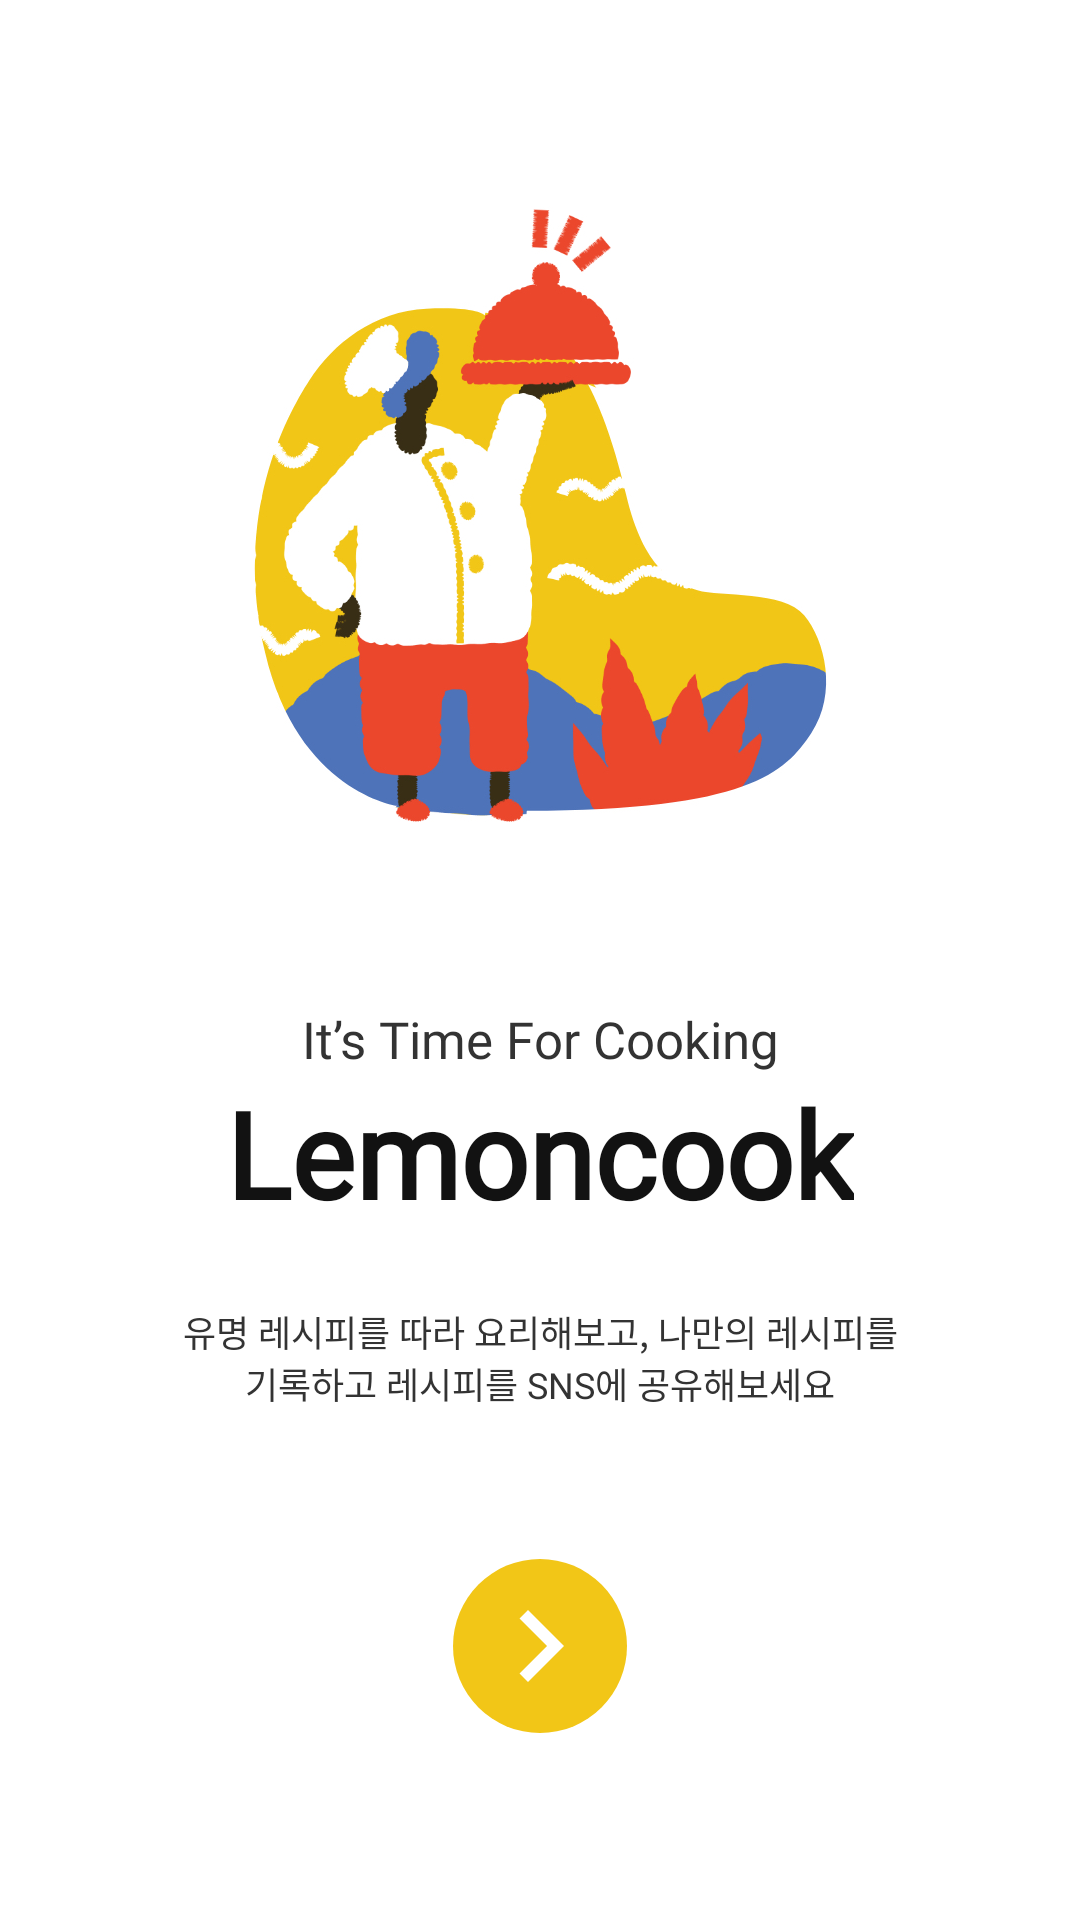

Point at icon controls on the screen. Image size 1080×1920, points as point (x, y).
next: point (540, 1646)
